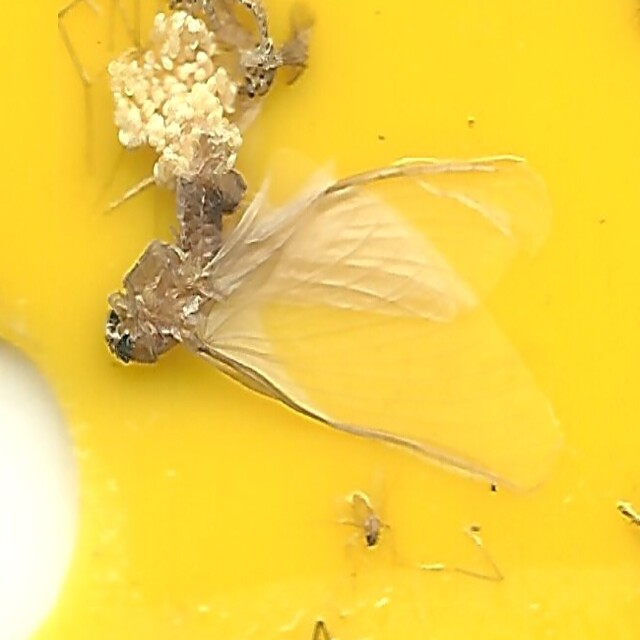Ephemeroptera: (98, 145, 542, 495)
